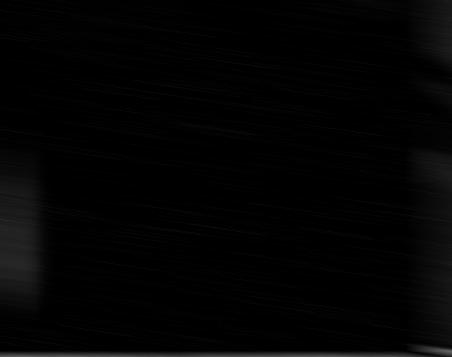Airbag: (0, 0, 452, 357), (434, 0, 452, 357), (0, 355, 452, 357), (434, 355, 452, 357)
